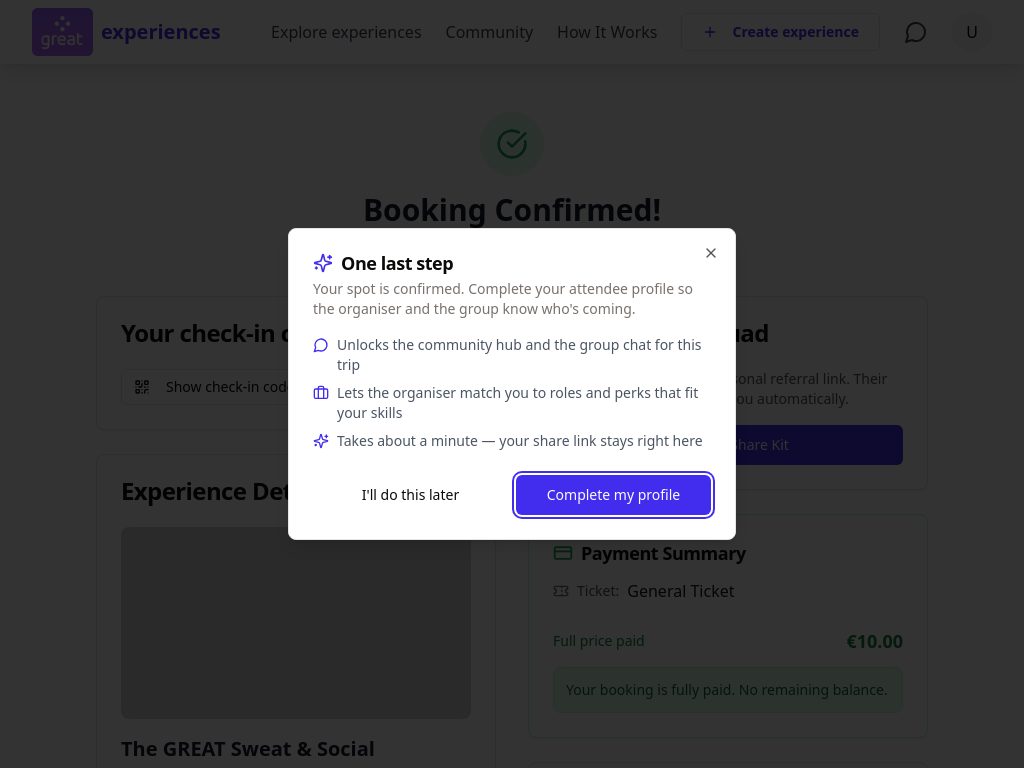
it: Booking confirmation after a redirect payment › leaves a pinned reminder when the buyer chooses to do it later
Click the button with test id "profile-prompt-later": (410, 495) [313, 475, 508, 515]
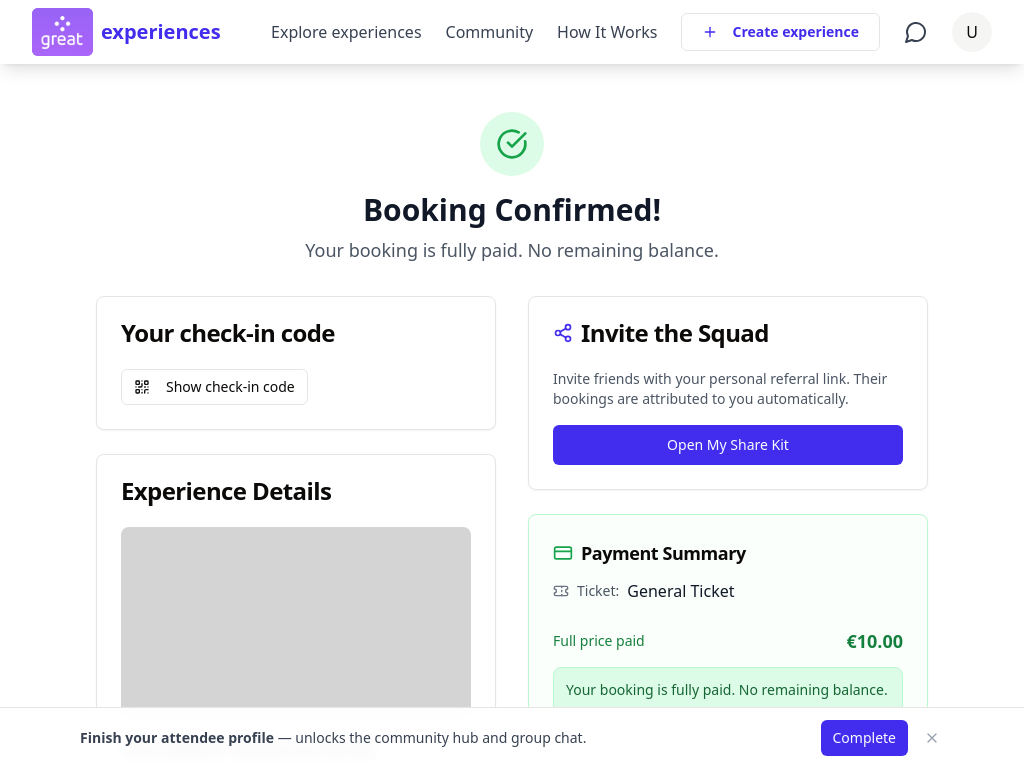
Expected: the text "Invite the Squad" is shown, [553, 316, 769, 349]
Now the dialog with test id "profile-prompt-dialog" is gone
Now the element with test id "profile-prompt-bar" is shown, box [0, 707, 1023, 767]
